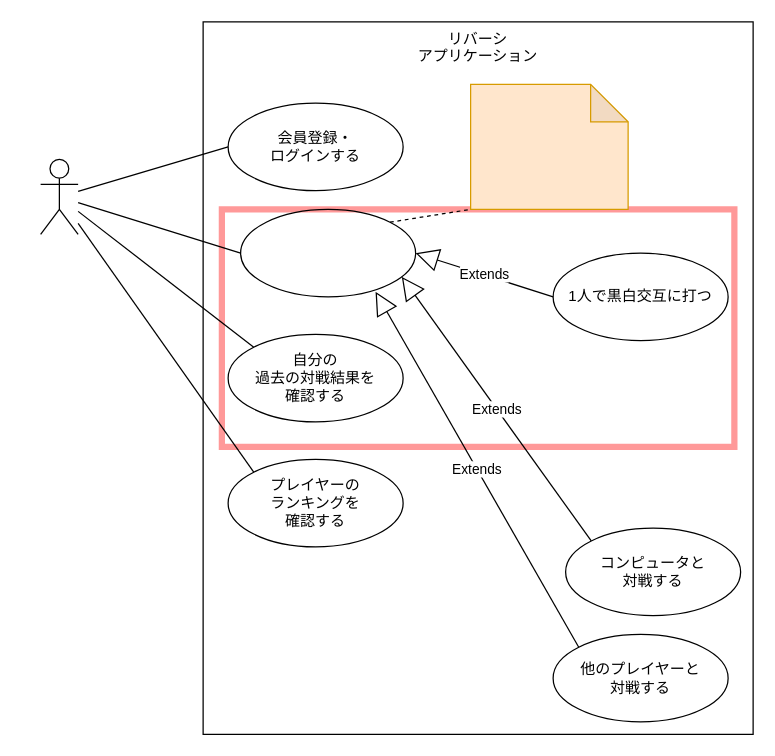
Image size: 775x756. Some labels were removed from this diagram. Each missing label, with the box of its shape:
プレイヤー: (39, 158, 78, 234)
・対戦を開始する ・盤面を見る ・石を打つ ・勝敗を確認する: (469, 83, 628, 209)
対戦する: (239, 208, 416, 297)
